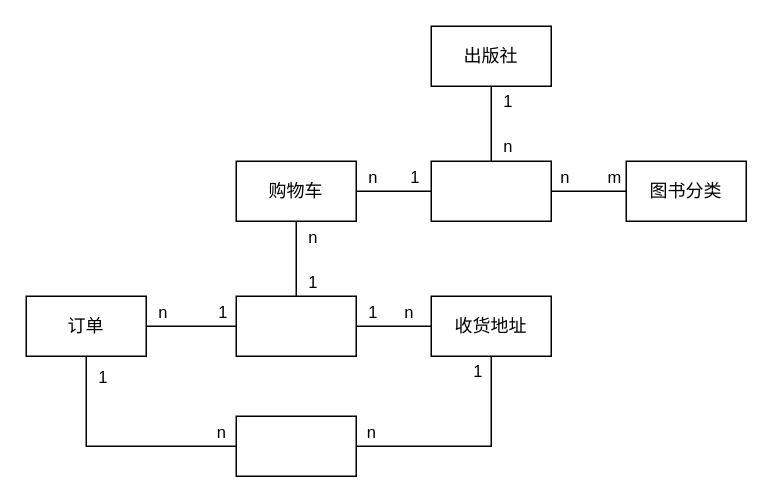
Some shapes in this 773 by 503 pixel diagram are drawn without their labels. Each missing label, with the centre of its shape:
图书: (490,190)
用户: (295,325)
订单详细: (295,445)
